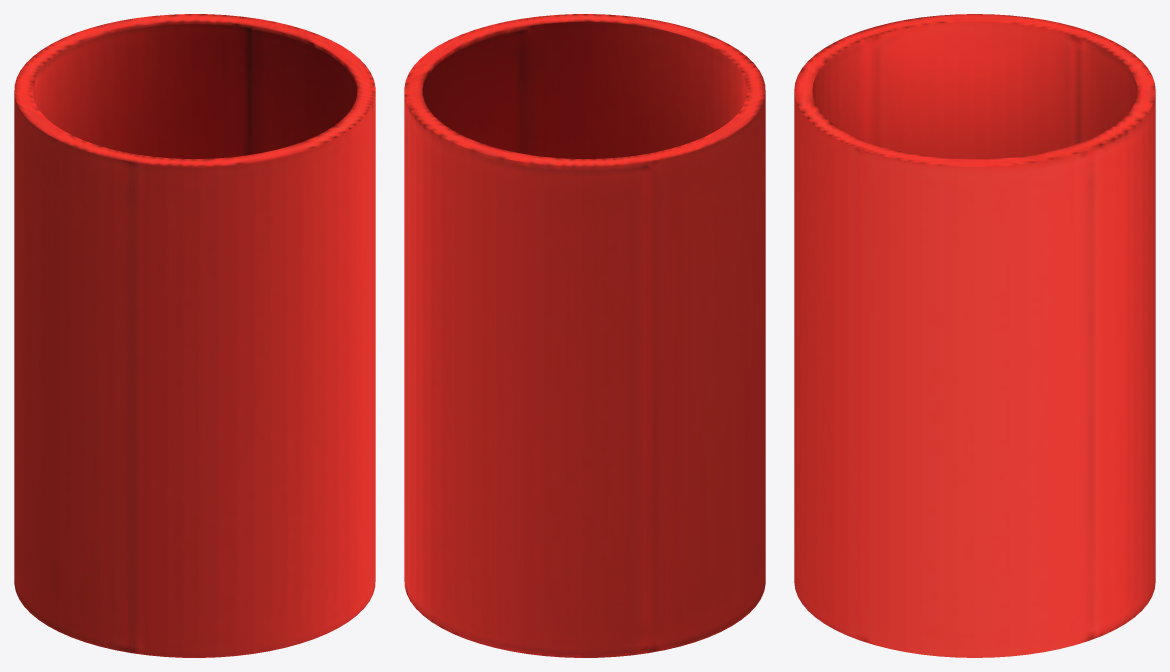
Rendered from Hole.gltf.
3 renders of one model, left to right at view 1: azimuth 30°, elevation 25°; view 2: azimuth 150°, elevation 25°; view 3: azimuth 270°, elevation 25°, orthographic.
Visible parts, largest first — view 1: hole; view 2: hole; view 3: hole.
Boxes of the visible parts, x1,y1,x2,y2 form: hole: (14, 14, 375, 657); hole: (404, 14, 765, 657); hole: (794, 14, 1155, 657).
Bounding box in the file's own units: 0.024 × 0.036 × 0.024.
Materials: 1 (1 with a texture image).
